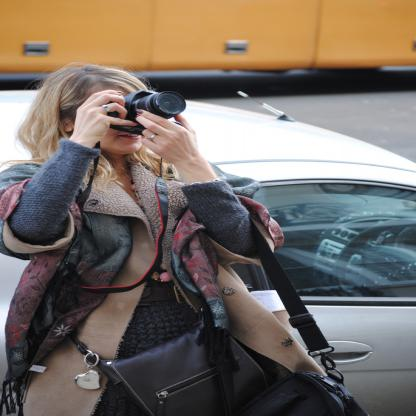Camera: (108, 83, 191, 124)
